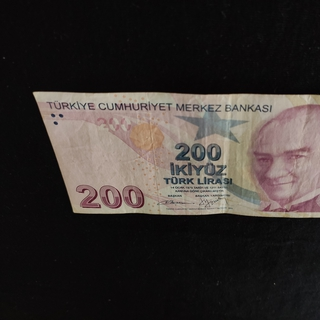200TLFront: (32, 90, 320, 218)
